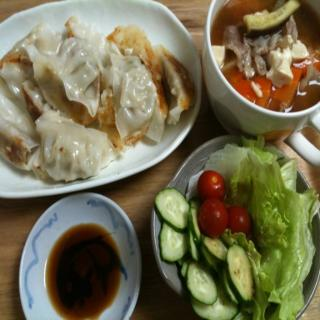Cucumber: (155, 183, 255, 319), (154, 186, 190, 232)
Salad: (151, 130, 317, 319)
Tomato: (199, 198, 228, 240), (197, 168, 229, 202), (228, 206, 250, 235)
